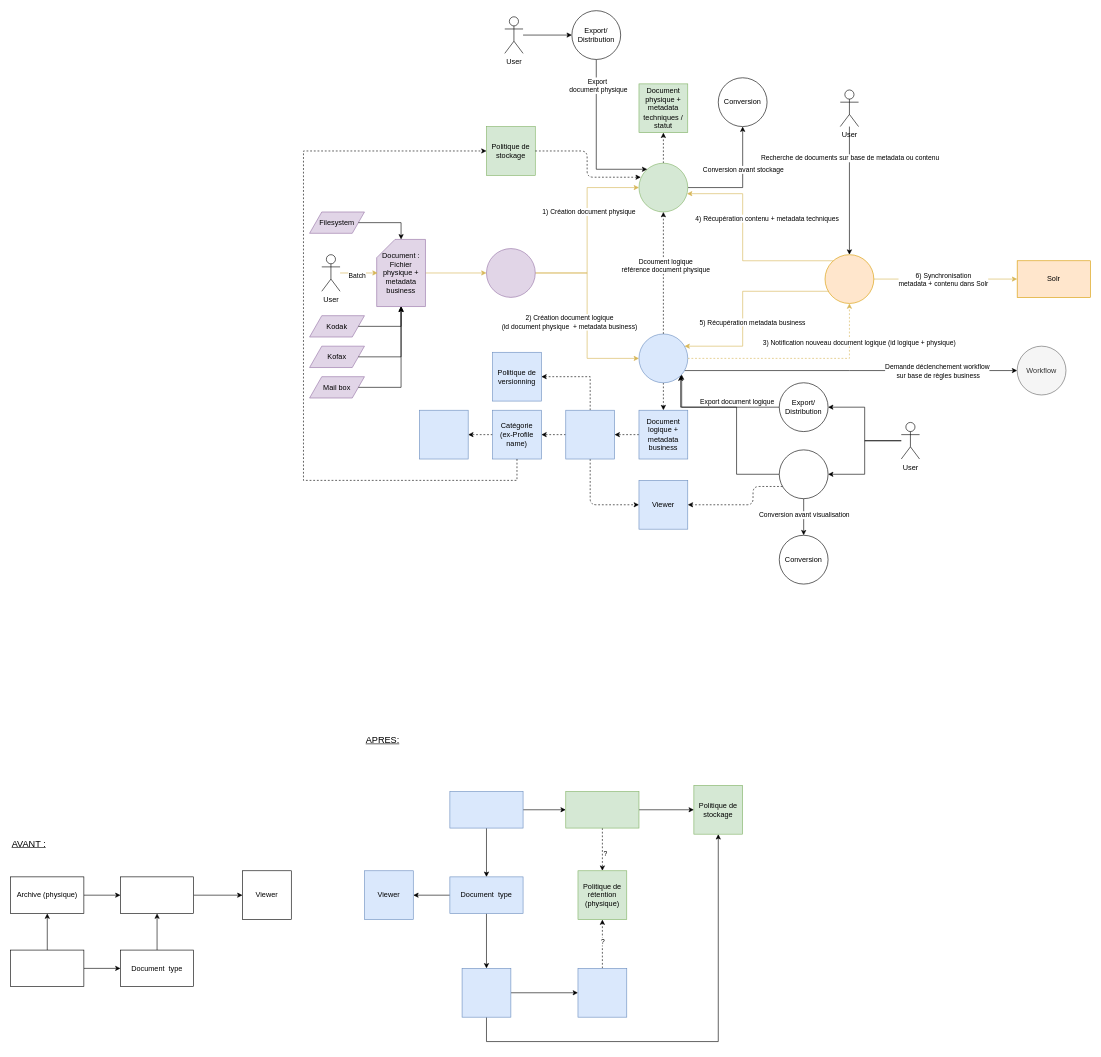
The diagram is 1101 pixels wide and 1057 high, and some of its shapes have lost their labels. Here are the shapes that lost their labels. From the top down, the centre of each, then its label:
At point 663,187: "Stockage".
At point 510,272: "Import (Création /Update)".
At point 849,278: "Recherche".
At point 663,358: "GED".
At point 443,434: "Politique de rétention".
At point 590,434: "Type de document".
At point 803,474: "Visualisation".
At point 486,809: "Document logique".
At point 602,809: "Document physique".
At point 157,894: "Profil (catégorie + politique stockage + politique rétention)".
At point 47,968: "Document (logique)".
At point 486,992: "Catégorie (ex profile name)".
At point 602,992: "Poltique de rétention (logique)".
